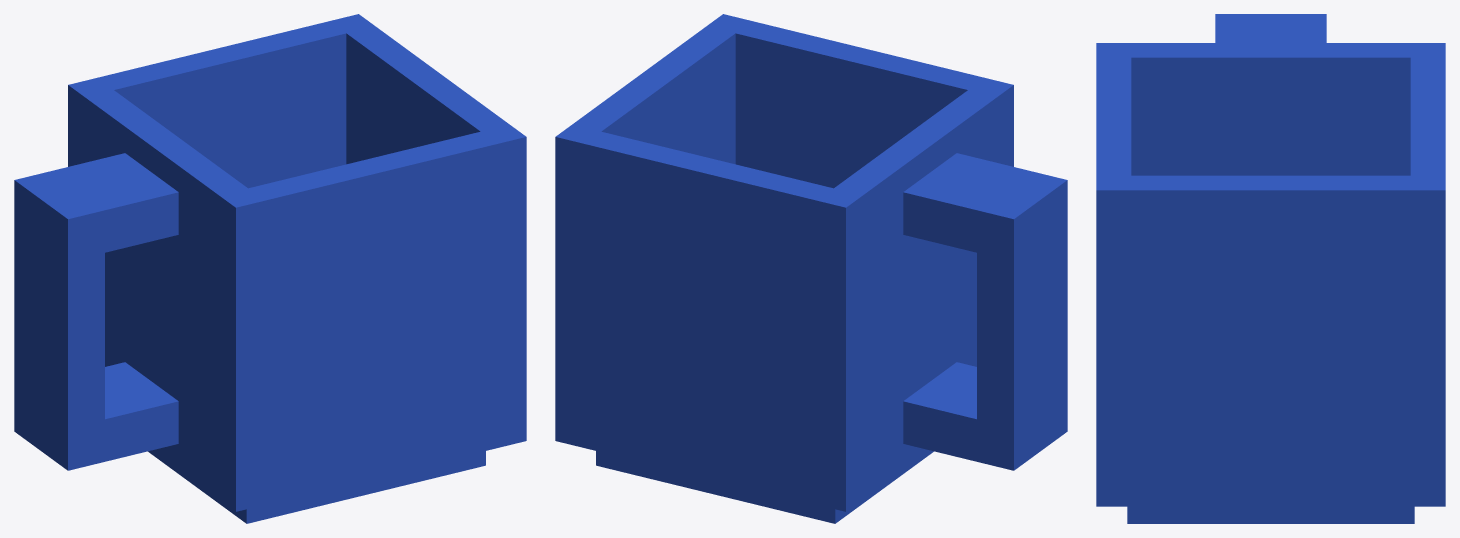
Rendered from cup.fbx.
3 views of the same model, side by side, from view 1: azimuth 30°, elevation 25°; view 2: azimuth 150°, elevation 25°; view 3: azimuth 270°, elevation 25° (orthographic). The views are drawn at different scales.
Parts seen in each view (by area): view 1: cup; view 2: cup; view 3: cup.
Boxes of the visible parts, box(x1,y1,x2,y2) form: cup: box(14, 14, 526, 523); cup: box(555, 14, 1067, 523); cup: box(1096, 14, 1445, 523).
Bounding box in the file's own units: 32.1 × 25.47 × 23.24.
